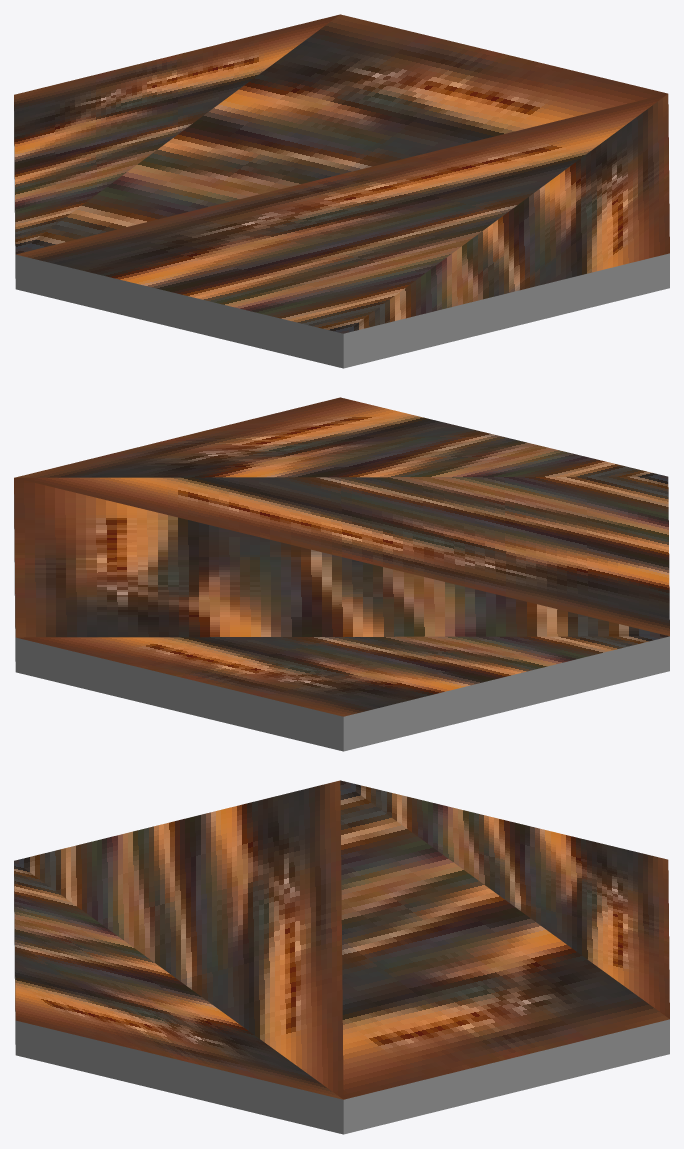
The model's file is deserttile.obj.
3 views of the same model, one above another, from view 1: azimuth 30°, elevation 25°; view 2: azimuth 150°, elevation 25°; view 3: azimuth 270°, elevation 25° (orthographic).
Visible parts, largest first — view 1: Cylinder; view 2: Cylinder; view 3: Cylinder.
Boxes of the visible parts, <box> form: Cylinder: <box>14,14,669,368</box>; Cylinder: <box>14,397,669,751</box>; Cylinder: <box>14,780,669,1134</box>.
Size of the model in its own units: 2.3 by 0.1169 by 2.
